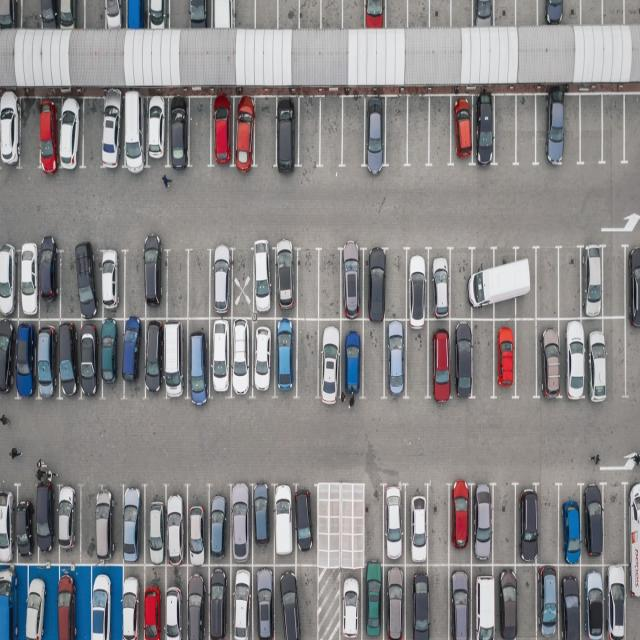space-empty: (293, 319, 319, 397), (512, 320, 538, 398), (603, 318, 629, 396), (470, 319, 496, 396), (423, 564, 450, 638), (405, 322, 431, 397), (361, 319, 386, 396), (292, 564, 318, 638), (426, 485, 449, 567), (492, 487, 516, 565), (254, 97, 280, 169), (361, 487, 384, 568), (228, 247, 253, 321), (380, 250, 406, 321), (601, 247, 626, 320), (428, 96, 454, 166), (188, 98, 214, 168), (448, 250, 474, 320), (536, 248, 562, 318), (492, 93, 517, 165), (70, 565, 94, 640), (293, 251, 319, 320), (537, 486, 560, 564), (603, 485, 625, 565), (188, 250, 213, 320), (383, 96, 408, 166), (603, 94, 628, 164), (557, 249, 582, 319), (320, 97, 345, 167), (342, 94, 366, 166), (515, 566, 539, 638), (82, 98, 106, 170), (316, 251, 341, 320), (166, 250, 191, 319), (580, 93, 604, 164), (408, 96, 432, 166), (20, 99, 43, 172), (298, 97, 322, 166), (515, 94, 538, 165), (60, 247, 83, 318), (124, 251, 148, 318), (562, 94, 582, 167), (81, 487, 100, 563), (315, 488, 332, 569), (624, 319, 640, 396), (624, 94, 640, 164), (318, 0, 342, 32), (254, 0, 278, 30), (342, 0, 366, 30), (298, 0, 322, 30), (384, 0, 408, 29), (407, 0, 431, 29), (276, 0, 299, 30), (85, 0, 107, 31), (450, 0, 474, 28), (21, 0, 43, 30), (169, 0, 191, 30), (515, 0, 538, 28), (430, 0, 453, 28), (234, 0, 256, 28), (580, 0, 604, 25), (493, 0, 515, 27), (601, 0, 624, 25), (623, 0, 640, 24)
space-occupied: (15, 564, 52, 640), (86, 562, 119, 638), (571, 321, 601, 402), (560, 318, 590, 398), (539, 93, 569, 166), (225, 482, 252, 563), (186, 319, 213, 399), (164, 320, 191, 400), (537, 320, 564, 399), (251, 319, 278, 398), (52, 566, 81, 639), (225, 567, 254, 640), (339, 318, 365, 398), (316, 318, 342, 398), (471, 564, 499, 638), (159, 566, 187, 640), (272, 317, 298, 396), (207, 319, 233, 398), (120, 484, 146, 563), (205, 562, 232, 638), (122, 318, 148, 396), (427, 320, 453, 398), (380, 483, 405, 564), (139, 564, 166, 639), (119, 564, 146, 639), (185, 563, 212, 638), (446, 483, 471, 563), (491, 247, 519, 318), (55, 482, 81, 558), (405, 484, 430, 563), (227, 319, 252, 398), (586, 318, 611, 397), (404, 250, 432, 320), (492, 317, 517, 395), (122, 96, 148, 171), (161, 491, 187, 566), (559, 489, 585, 564), (12, 319, 36, 400), (92, 486, 117, 563), (448, 564, 474, 638), (449, 319, 473, 399), (472, 483, 496, 563), (100, 250, 128, 318), (143, 96, 169, 169), (250, 483, 274, 562), (208, 248, 235, 318), (578, 563, 603, 638), (384, 320, 408, 398), (471, 246, 497, 318), (33, 320, 57, 398), (254, 243, 279, 317), (534, 566, 559, 640), (272, 484, 296, 561), (30, 481, 54, 558), (272, 246, 298, 317), (450, 95, 476, 165), (577, 248, 603, 318), (361, 250, 387, 320), (209, 97, 234, 169), (167, 98, 192, 170), (558, 563, 582, 638), (380, 563, 404, 638), (254, 563, 278, 638), (274, 563, 298, 638), (208, 485, 231, 563), (144, 319, 167, 397), (58, 320, 80, 401), (405, 564, 429, 638), (341, 569, 366, 640), (142, 487, 165, 564), (101, 485, 124, 562), (426, 252, 452, 320), (14, 247, 38, 320), (515, 488, 538, 564), (101, 316, 123, 395), (79, 320, 101, 399), (184, 492, 208, 564), (275, 97, 299, 168), (60, 98, 84, 169), (102, 96, 125, 170), (38, 97, 61, 171), (340, 250, 365, 318), (364, 97, 388, 167), (80, 247, 104, 317), (230, 97, 254, 167), (512, 248, 536, 318), (37, 244, 60, 317), (494, 567, 517, 640), (293, 490, 315, 566), (606, 562, 628, 638), (473, 97, 496, 168), (360, 567, 382, 640), (144, 250, 168, 316), (584, 487, 604, 563), (0, 96, 21, 168), (16, 484, 36, 559), (0, 244, 19, 317), (1, 567, 20, 640), (625, 481, 640, 564), (0, 490, 16, 566), (0, 319, 14, 397), (626, 563, 640, 637), (626, 246, 640, 318), (540, 0, 580, 25), (146, 0, 171, 29), (56, 0, 81, 29), (126, 0, 150, 30), (362, 0, 386, 29), (210, 0, 234, 29), (104, 0, 126, 30), (187, 0, 210, 28), (473, 1, 497, 27), (0, 0, 20, 30), (39, 0, 58, 29)
